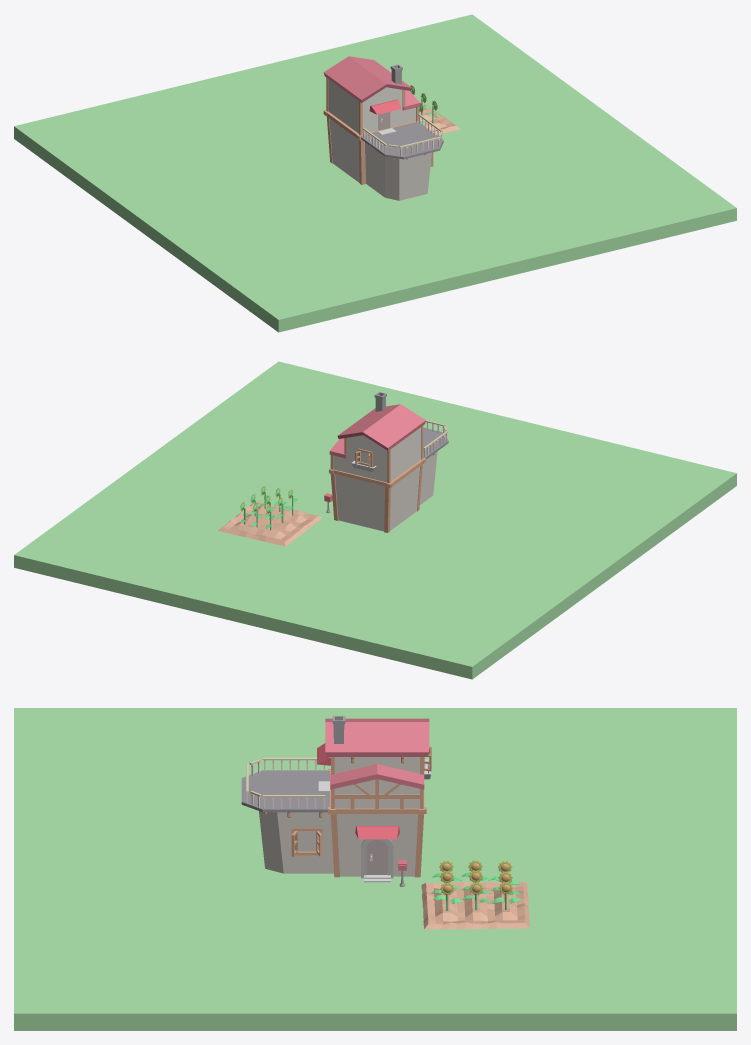
The model's file is ハウス3.glb.
3 views of the same model, one above another, from view 1: azimuth 30°, elevation 25°; view 2: azimuth 150°, elevation 25°; view 3: azimuth 270°, elevation 25° (orthographic). The views are drawn at different scales.
Visible parts, largest first — view 1: 平面.029, 立方体.111, 立方体.106, 立方体.093, 立方体.080, グリッド.001; view 2: 平面.029, 立方体.111, グリッド.001, 立方体.106, 立方体.080, 平面.036; view 3: 平面.029, 立方体.111, 立方体.106, グリッド.001, 立方体.080, 立方体.093, 平面.034, 立方体.085, 平面.036, 平面.030, 立方体.060, 立方体.040.
Boxes of the visible parts, x1=… form: 平面.029: x1=14, y1=14, x2=736, y2=332; 立方体.111: x1=328, y1=79, x2=431, y2=200; 立方体.106: x1=323, y1=56, x2=419, y2=110; 立方体.093: x1=361, y1=123, x2=443, y2=159; 立方体.080: x1=323, y1=77, x2=433, y2=184; グリッド.001: x1=418, y1=100, x2=459, y2=134; 平面.029: x1=14, y1=361, x2=736, y2=679; 立方体.111: x1=333, y1=427, x2=437, y2=531; グリッド.001: x1=218, y1=501, x2=322, y2=546; 立方体.106: x1=329, y1=404, x2=425, y2=458; 立方体.080: x1=329, y1=426, x2=434, y2=532; 平面.036: x1=241, y1=488, x2=297, y2=530; 平面.029: x1=14, y1=708, x2=736, y2=1030; 立方体.111: x1=259, y1=757, x2=419, y2=876; 立方体.106: x1=325, y1=718, x2=429, y2=789; グリッド.001: x1=421, y1=881, x2=529, y2=929; 立方体.080: x1=263, y1=746, x2=431, y2=877; 立方体.093: x1=241, y1=770, x2=329, y2=812; 平面.034: x1=439, y1=860, x2=513, y2=894; 立方体.085: x1=317, y1=743, x2=399, y2=839; 平面.036: x1=431, y1=872, x2=521, y2=910; 平面.030: x1=366, y1=839, x2=387, y2=874; 立方体.060: x1=246, y1=757, x2=325, y2=797; 立方体.040: x1=246, y1=760, x2=325, y2=808.
Size of the model in its own units: 476 by 120 by 476.
